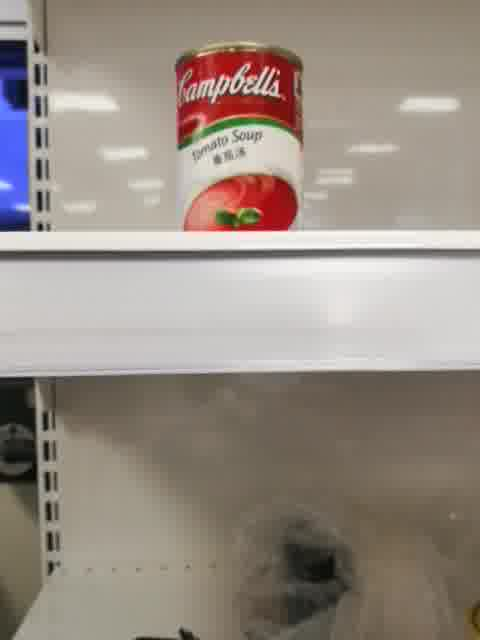tomatosoup: (173, 40, 305, 231)
